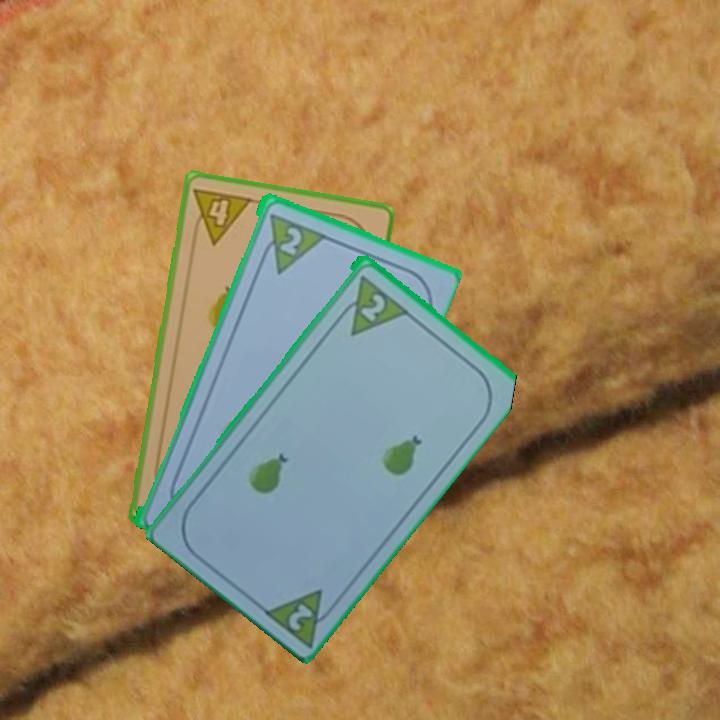2p: (258, 584, 342, 648), (331, 271, 409, 339), (276, 223, 305, 258)
4p: (187, 184, 255, 247)
